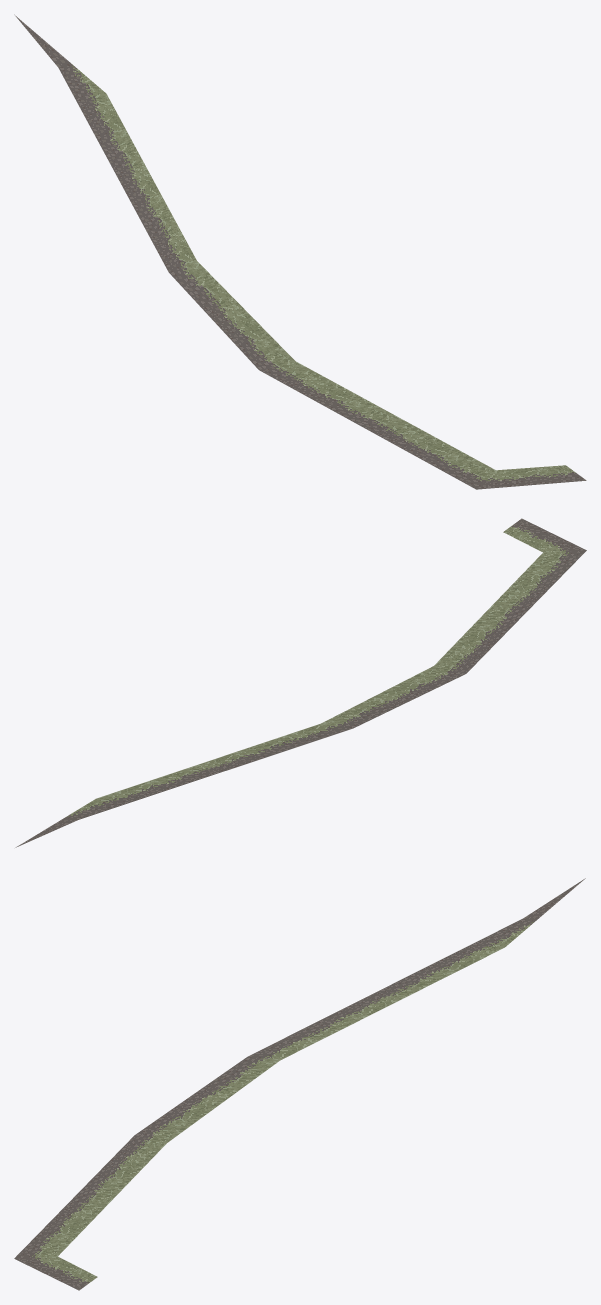
File: kd_stage_135ded_4_131_exterior_piece_0.glb
The picture shows the model from 3 angles, top to bottom: view 1: azimuth 30°, elevation 25°; view 2: azimuth 150°, elevation 25°; view 3: azimuth 330°, elevation 25°; orthographic projection. The views are drawn at different scales.
Parts seen in each view (by area): view 1: kd_stage_135ded_4_131_exterior_piece_0; view 2: kd_stage_135ded_4_131_exterior_piece_0; view 3: kd_stage_135ded_4_131_exterior_piece_0.
Part boxes in pixels (box(x1,y1,x2,y2)): kd_stage_135ded_4_131_exterior_piece_0: box(14, 14, 586, 489); kd_stage_135ded_4_131_exterior_piece_0: box(15, 518, 586, 847); kd_stage_135ded_4_131_exterior_piece_0: box(14, 878, 585, 1290).
Size of the model in its own units: 0.2388 by 0.0807 by 1.78.
1 material, 1 textured.
